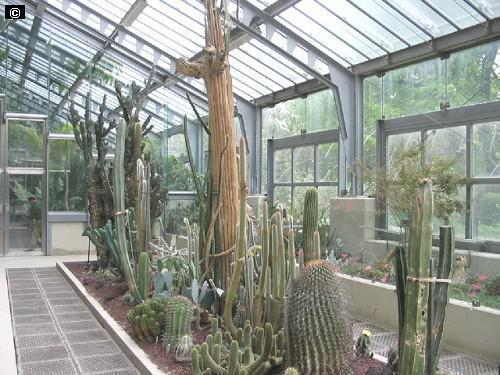Puerta: (4, 111, 48, 256)
Ventana: (360, 70, 499, 248)
